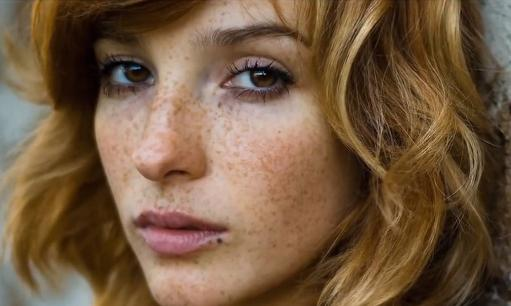left_eye: (221, 65, 297, 96)
left_lip_corner: (213, 222, 244, 241)
right_eye: (100, 60, 155, 90)
right_lip_corner: (130, 217, 151, 236)
